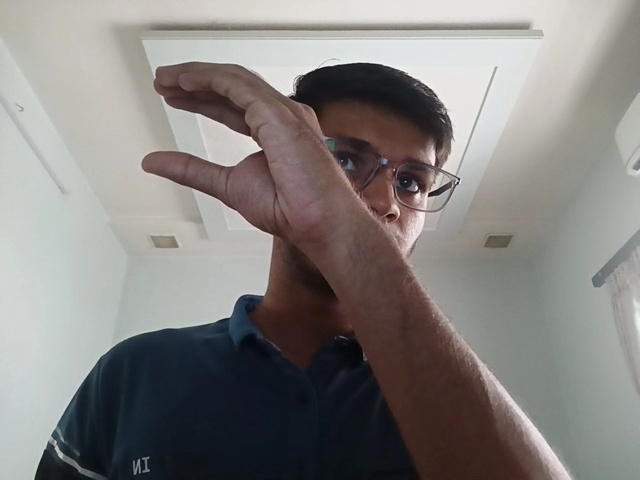No: (136, 50, 372, 262)
